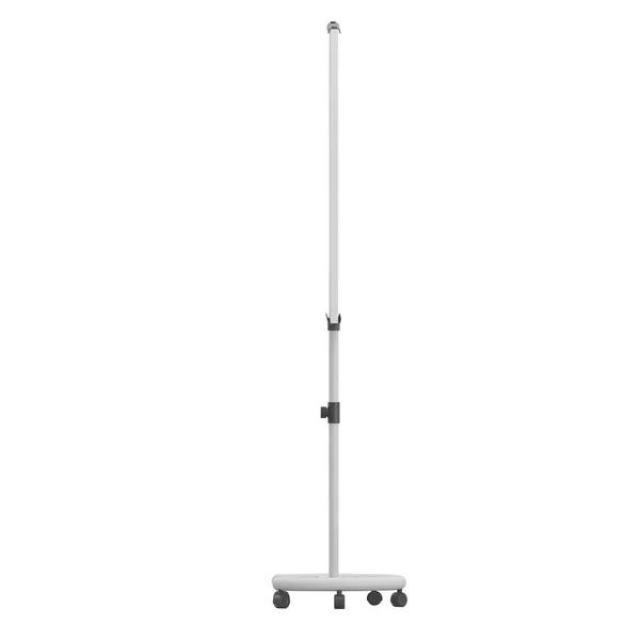Pole: (272, 21, 409, 610)
